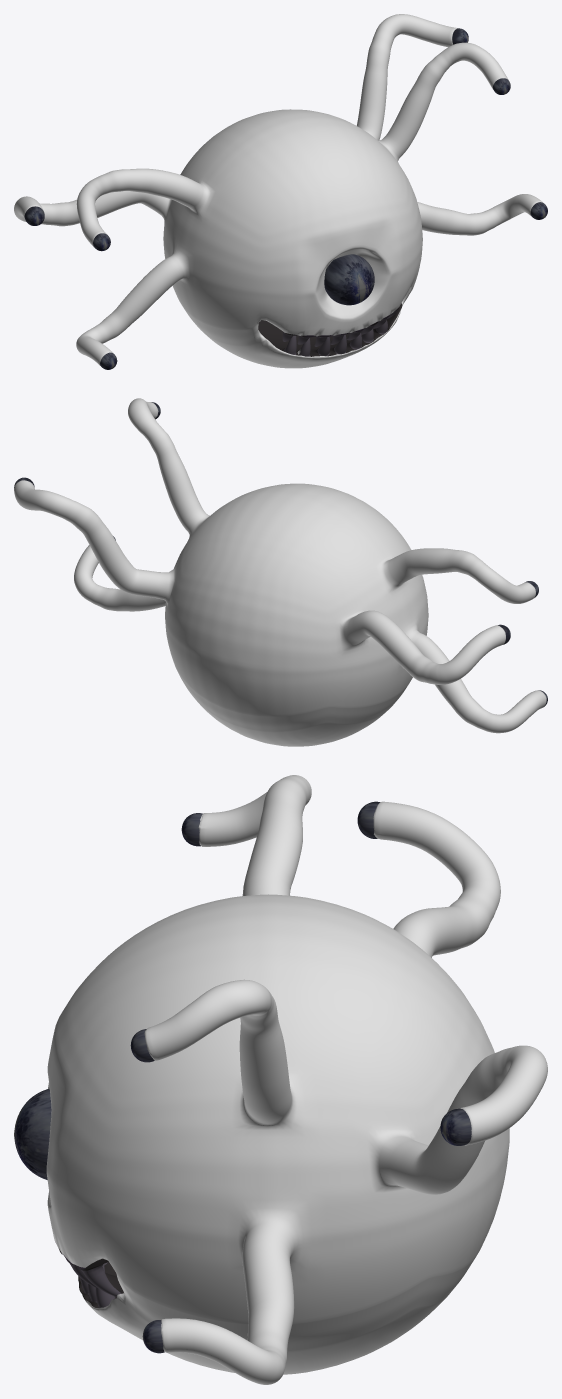
File: Beholder.glb
3 renders of one model, top to bottom at view 1: azimuth 30°, elevation 25°; view 2: azimuth 150°, elevation 25°; view 3: azimuth 270°, elevation 25°, orthographic. The views are drawn at different scales.
Visible parts, largest first — view 1: Cuerpo001; view 2: Cuerpo001; view 3: Cuerpo001.
Boxes of the visible parts, x1,y1,x2,y2 form: Cuerpo001: (14, 14, 547, 369); Cuerpo001: (14, 398, 547, 746); Cuerpo001: (14, 775, 547, 1384).
Size of the model in its own units: 5.23 by 3.01 by 2.81.
3 materials, 2 textured.
